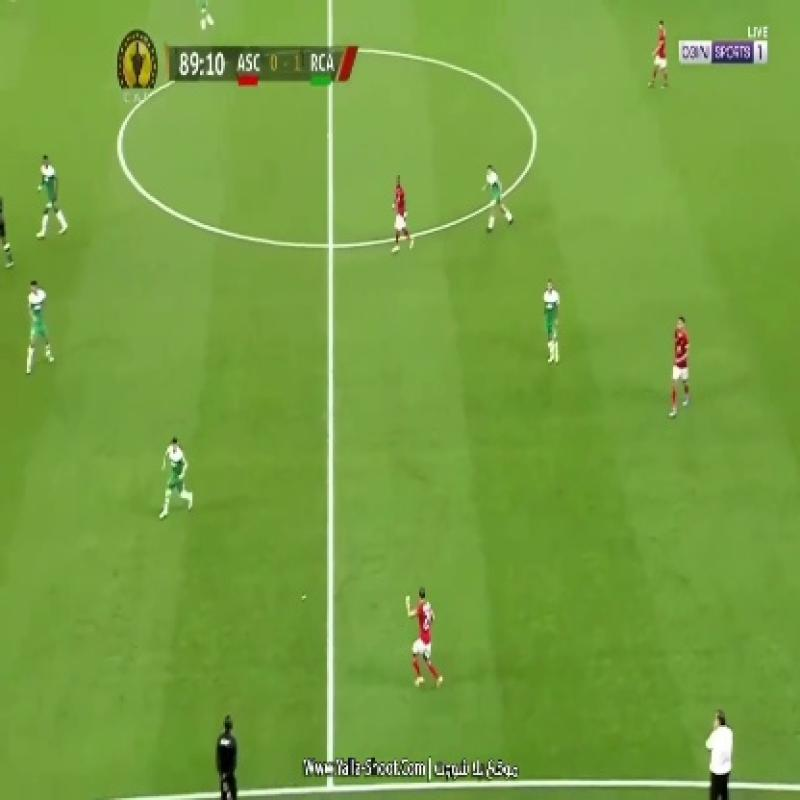14: (312, 35, 348, 65)
15: (316, 224, 342, 268)
16: (304, 768, 358, 800)
c: (88, 124, 148, 166), (517, 119, 555, 152)
